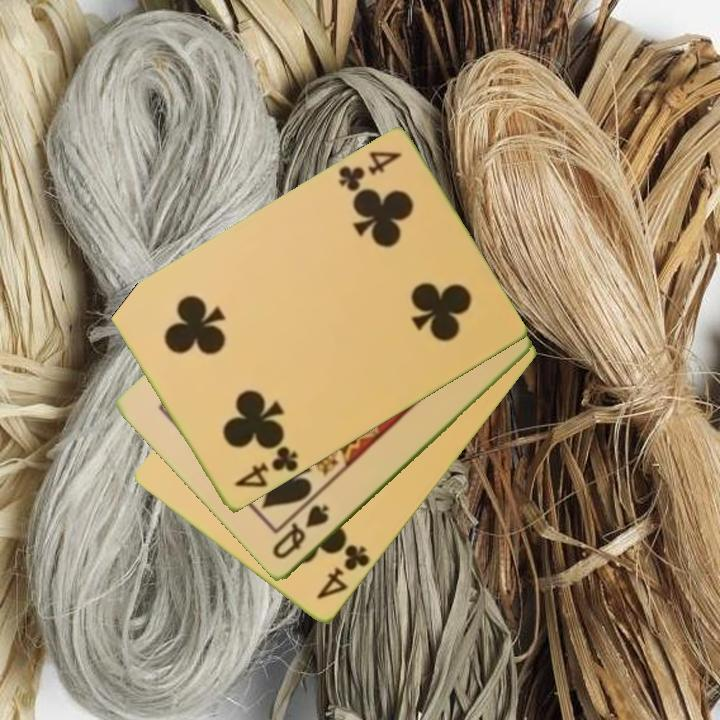4c: (230, 439, 301, 492), (313, 541, 373, 603), (334, 148, 405, 195)
Qs: (269, 501, 332, 563)
